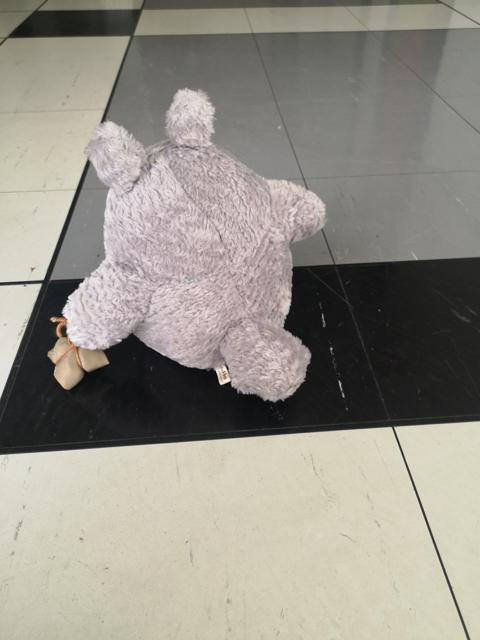totoro: (42, 84, 329, 405)
